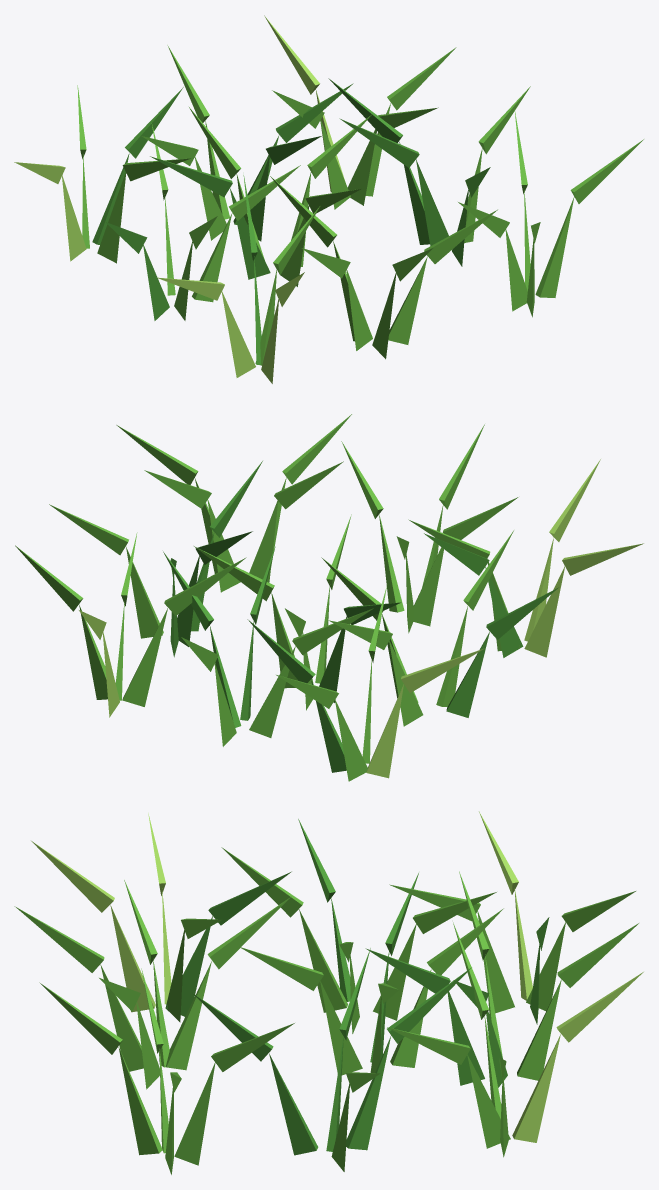
File: rice-2.glb
3 views of the same model, one above another, from view 1: azimuth 30°, elevation 25°; view 2: azimuth 150°, elevation 25°; view 3: azimuth 270°, elevation 25° (orthographic). The views are drawn at different scales.
Visible parts, largest first — view 1: rice-2; view 2: rice-2; view 3: rice-2.
Boxes of the visible parts, x1,y1,x2,y2 form: rice-2: (14,15,643,383); rice-2: (15,414,643,781); rice-2: (14,811,643,1174).
Bounding box in the file's own units: 0.8311 × 0.2426 × 0.8126.
1 material, 1 textured.
